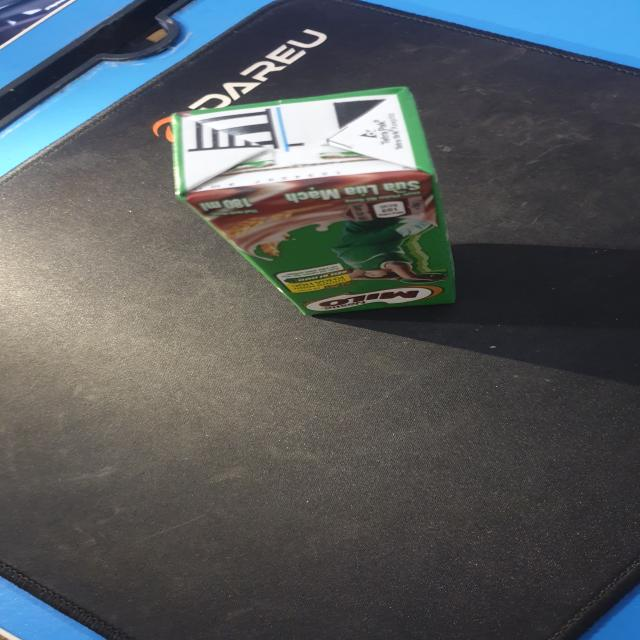Milo: (167, 87, 464, 325)
